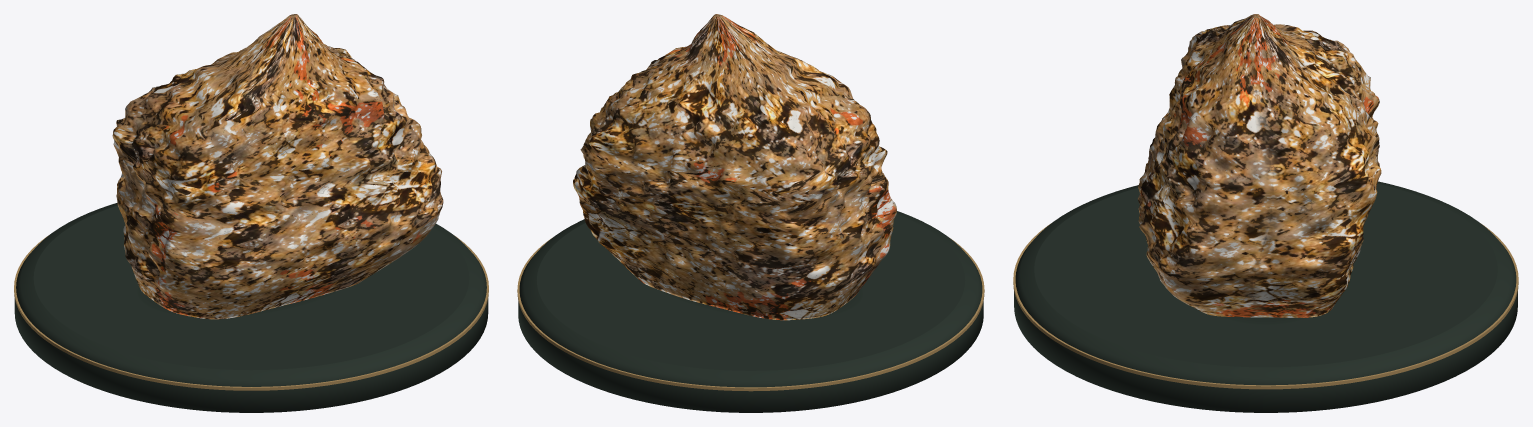
Rendered from lingstone-art-07-v20-f4d0f06427a3.glb.
The picture shows the model from 3 angles, left to right: view 1: azimuth 30°, elevation 25°; view 2: azimuth 150°, elevation 25°; view 3: azimuth 270°, elevation 25°; orthographic projection. The views are drawn at different scales.
Parts seen in each view (by area): view 1: art-ab57c5ee730e10a5 concept stone, Centered beveled display plinth, Champagne gold edge; view 2: art-ab57c5ee730e10a5 concept stone, Centered beveled display plinth, Champagne gold edge; view 3: Centered beveled display plinth, art-ab57c5ee730e10a5 concept stone, Champagne gold edge.
Boxes of the visible parts, x1,y1,x2,y2 form: art-ab57c5ee730e10a5 concept stone: (112,14,443,319); Centered beveled display plinth: (14,202,488,412); Champagne gold edge: (14,235,488,390); art-ab57c5ee730e10a5 concept stone: (573,14,896,320); Centered beveled display plinth: (518,211,983,412); Champagne gold edge: (517,237,984,391); Centered beveled display plinth: (1014,181,1517,412); art-ab57c5ee730e10a5 concept stone: (1138,14,1381,317); Champagne gold edge: (1013,223,1518,389).
Size of the model in its own units: 2.16 by 1.49 by 2.16.
Materials: 4 (1 with a texture image).
